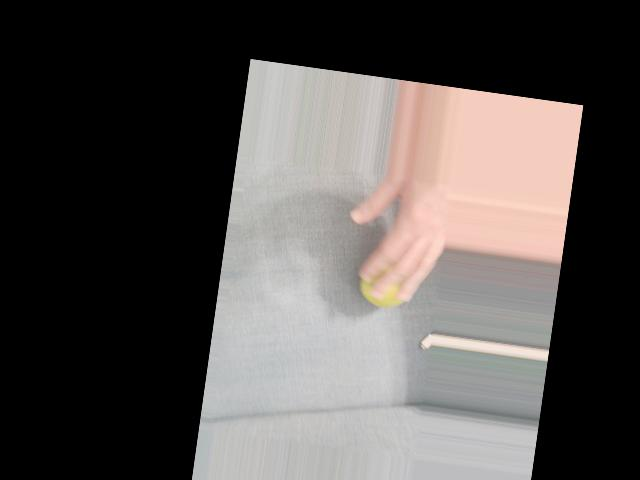apple: (351, 231, 425, 325)
